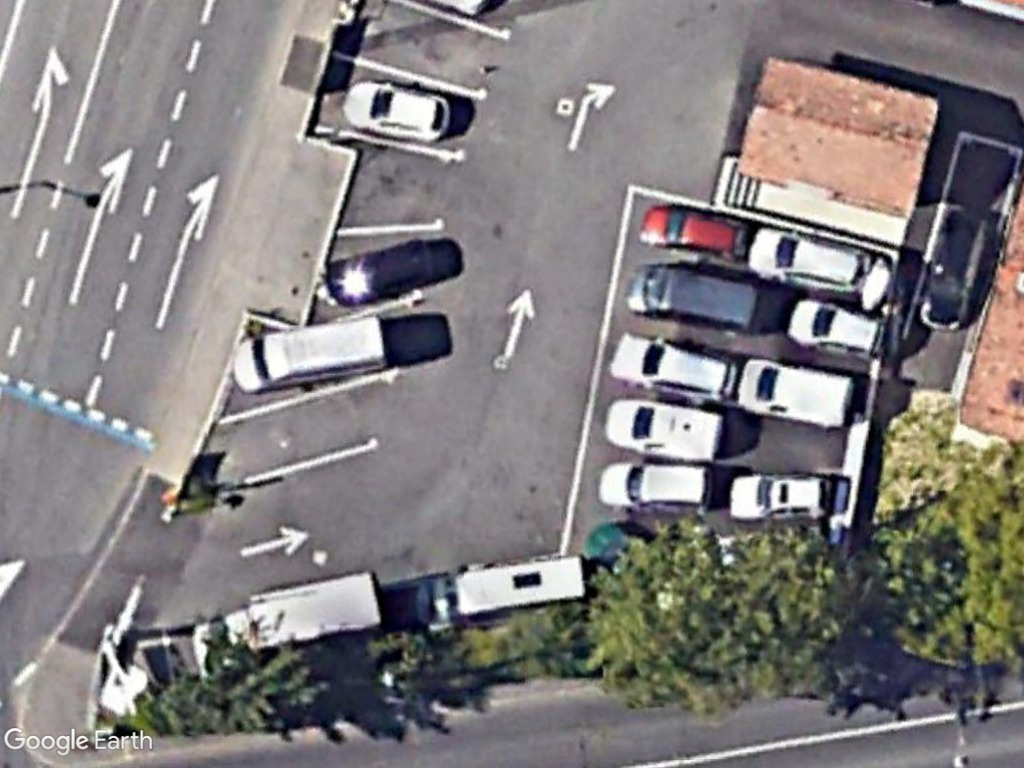car: (604, 328, 740, 404), (748, 223, 875, 296), (342, 77, 454, 143), (638, 200, 752, 264), (783, 293, 886, 363), (595, 457, 718, 513), (725, 465, 838, 523)
van: (229, 309, 389, 399), (624, 258, 766, 332), (603, 391, 724, 465), (735, 353, 857, 425)
